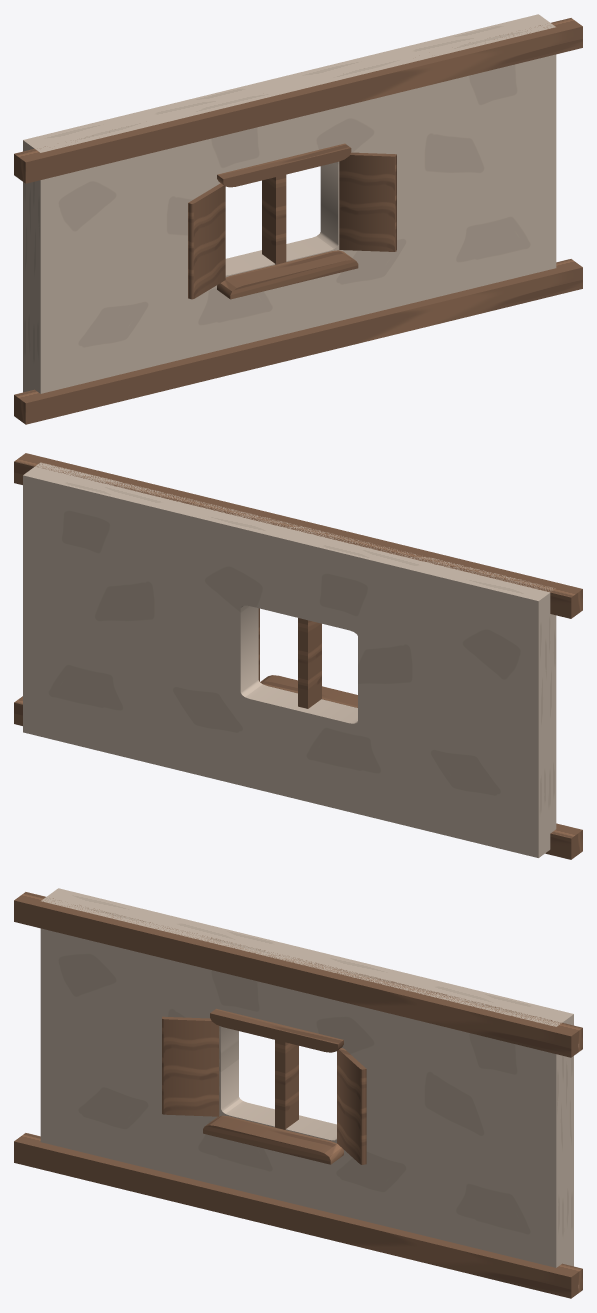
File: wall_window.fbx
The picture shows the model from 3 angles, top to bottom: view 1: azimuth 30°, elevation 25°; view 2: azimuth 150°, elevation 25°; view 3: azimuth 330°, elevation 25°; orthographic projection.
Parts seen in each view (by area): view 1: Cube; view 2: Cube; view 3: Cube.
Part boxes in pixels (left/top/right/bottom): Cube: left=14, top=14, right=582, bottom=424; Cube: left=14, top=453, right=582, bottom=859; Cube: left=14, top=888, right=582, bottom=1298.
Bounding box in the file's own units: 2178 × 980 × 235.
